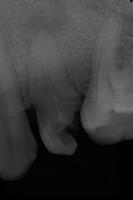Furcation Involvement: (15, 4, 69, 50)
